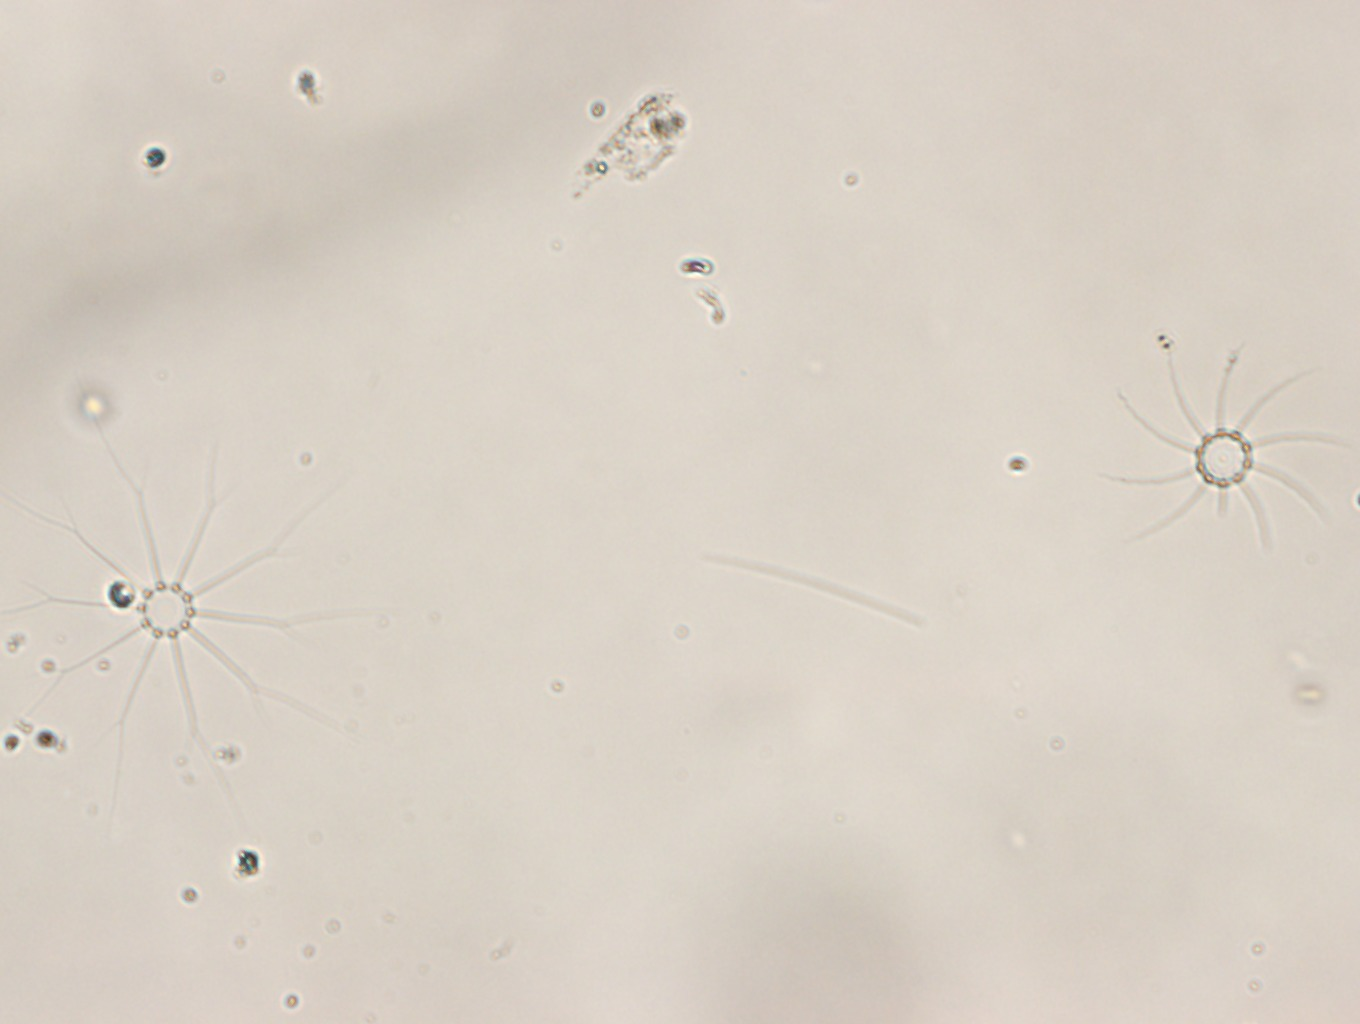bacteriastrum: (1, 414, 381, 805), (1097, 335, 1360, 567)
